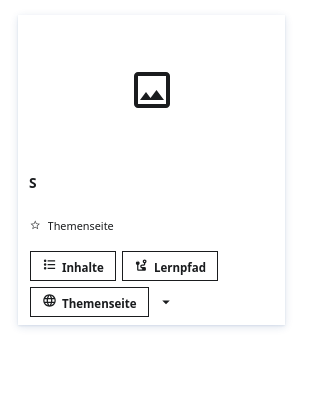
CardListComponent — Themenseiten-Button + Varianten-Dropdown › Escape schließt das Dropdown und gibt den Fokus an den Toggle (8-6, APG)
The width and height of the screenshot is (320, 395).
Click the button with class "tp-toggle".
click(166, 302)  # box x1=151 y1=287 x2=181 y2=317
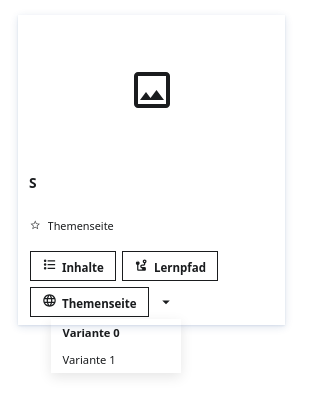
Expected: the element with class "tp-dropdown" is shown, x1=51 y1=319 x2=181 y2=373
Press Escape in the element with class "tp-dropdown-wrap", box x1=151 y1=287 x2=181 y2=317
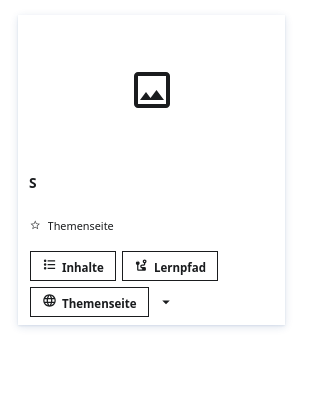
Expected: the element with class "tp-dropdown" is gone
